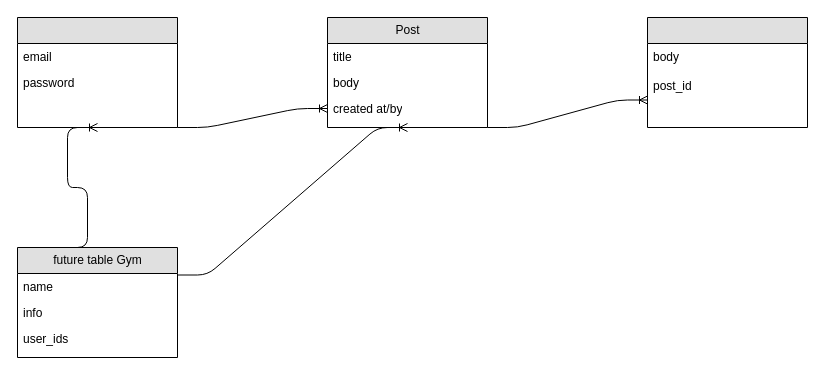
Image size: 825x375. Some labels were removed from this diagram. The shapes that lost their labels are listed below. From the top down, each one's box as (x1, y1, x2, y2) in pixels, then its label:
(16, 16, 178, 128): User
(646, 16, 808, 128): Comment
